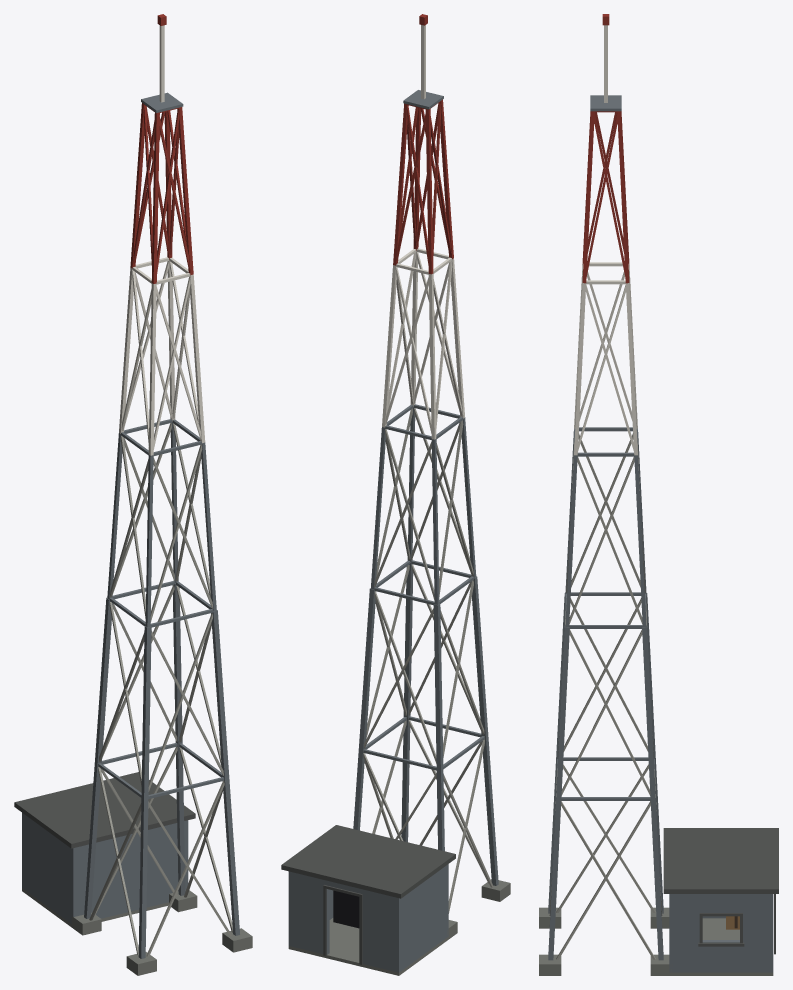
The model's file is radio_tower.glb.
3 renders of one model, left to right at view 1: azimuth 30°, elevation 25°; view 2: azimuth 150°, elevation 25°; view 3: azimuth 270°, elevation 25°, orthographic. The views are drawn at different scales.
Visible parts, largest first — view 1: radio_tower; view 2: radio_tower; view 3: radio_tower.
Part boxes in pixels (x1,y1,x2,y2): radio_tower: (14, 14, 252, 975); radio_tower: (281, 14, 510, 975); radio_tower: (539, 14, 778, 975).
Size of what is drawn, in the model's own units: 3.9 by 27.66 by 6.45.
1 material, 1 textured.
